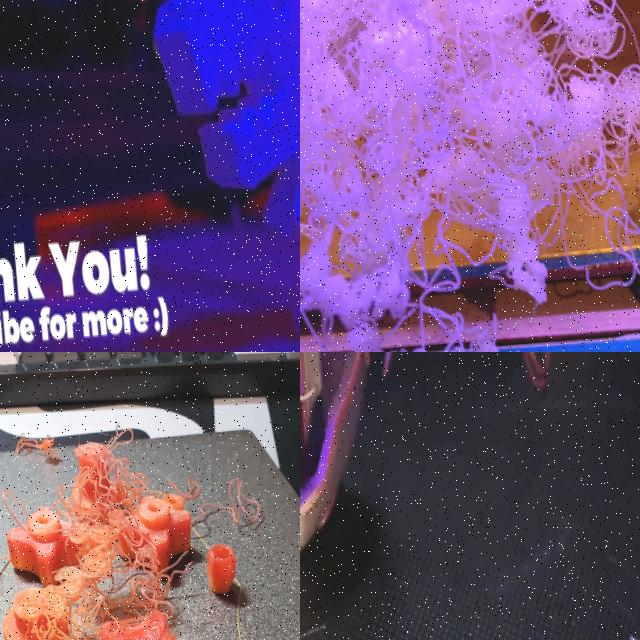spaghetti: (300, 0, 640, 333), (30, 481, 146, 640), (316, 298, 593, 352), (125, 456, 198, 618), (200, 468, 270, 534), (2, 415, 65, 475), (77, 420, 146, 473)
